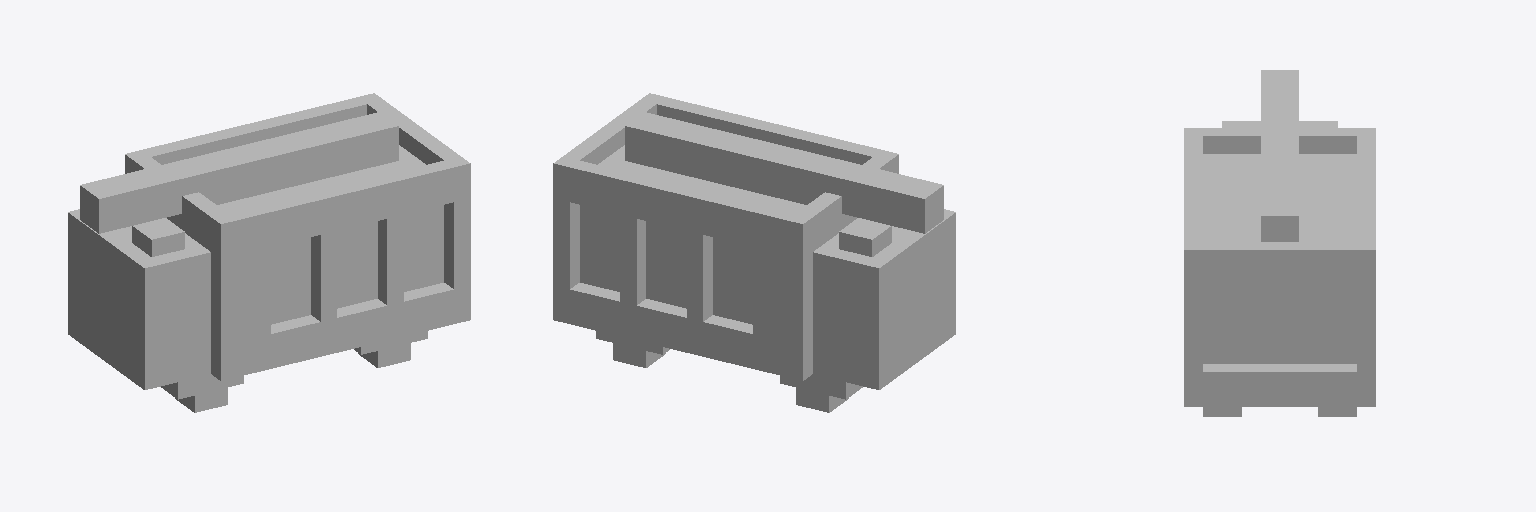
The model's file is cars-1.obj.
3 renders of one model, left to right at view 1: azimuth 30°, elevation 25°; view 2: azimuth 150°, elevation 25°; view 3: azimuth 270°, elevation 25°, orthographic.
Visible parts, largest first — view 1: object 1; view 2: object 1; view 3: object 1.
Part boxes in pixels (x1,y1,x2,y2): object 1: (68,93,470,412); object 1: (553,93,955,412); object 1: (1184,70,1375,416).
Bounding box in the file's own units: 2 × 1.2 × 1.